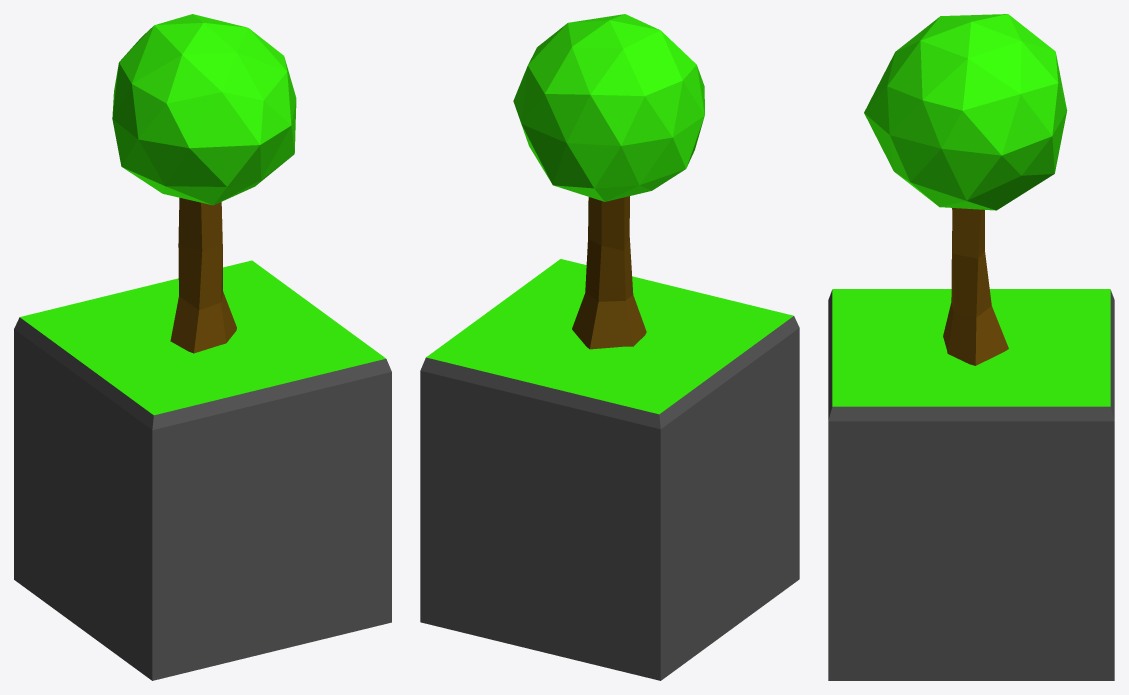
Rendered from tree_tile.glb.
3 renders of one model, left to right at view 1: azimuth 30°, elevation 25°; view 2: azimuth 150°, elevation 25°; view 3: azimuth 270°, elevation 25°, orthographic. The views are drawn at different scales.
Visible parts, largest first — view 1: TreeTile; view 2: TreeTile; view 3: TreeTile.
Boxes of the visible parts, x1,y1,x2,y2 form: TreeTile: [14, 14, 391, 680]; TreeTile: [420, 14, 799, 680]; TreeTile: [828, 14, 1114, 680].
Size of the model in its own units: 2 by 4.61 by 2.
